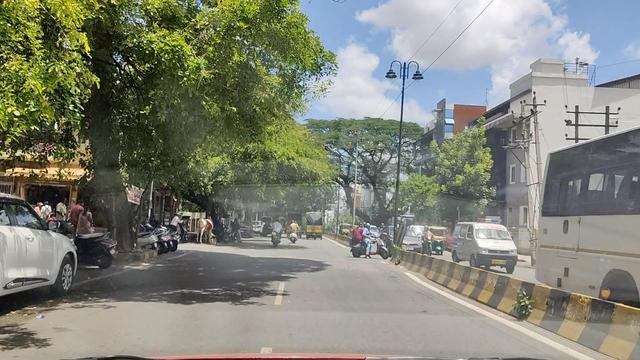LMV: (334, 219, 386, 253), (270, 216, 286, 248), (289, 217, 304, 244)
